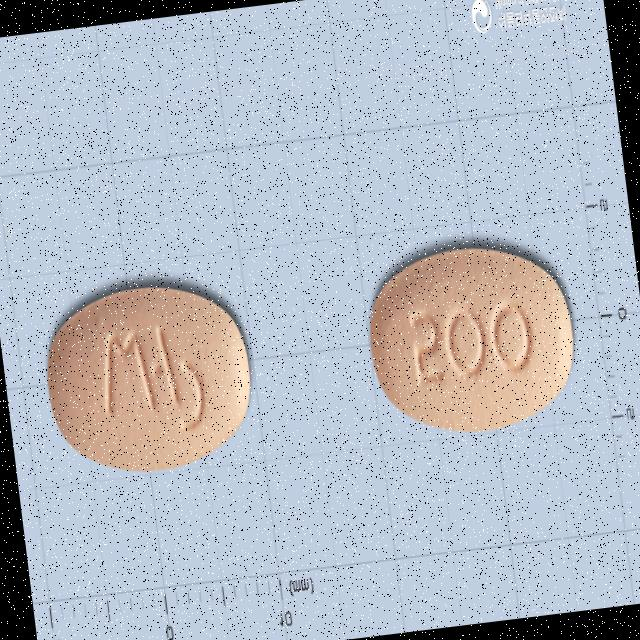Highloxin: (37, 274, 262, 483), (360, 238, 584, 446)
